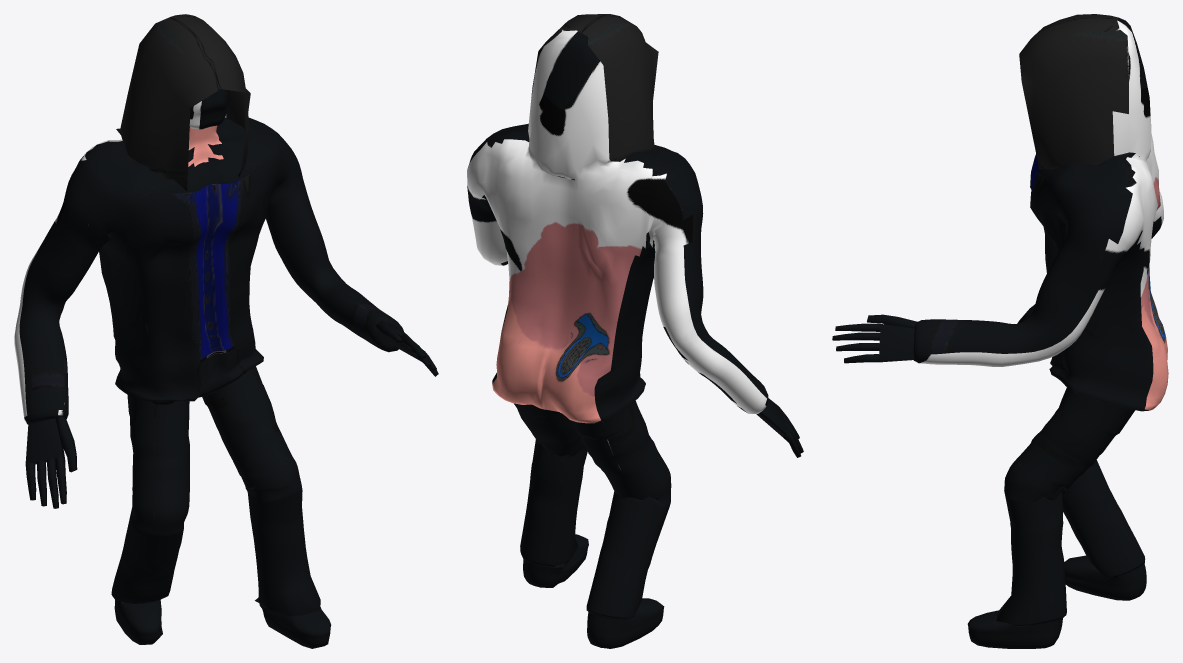
The model's file is keyFrame06.obj.
3 renders of one model, left to right at view 1: azimuth 30°, elevation 25°; view 2: azimuth 150°, elevation 25°; view 3: azimuth 270°, elevation 25°, orthographic.
Visible parts, largest first — view 1: pasted__polySurface71 group4; view 2: pasted__polySurface71 group4; view 3: pasted__polySurface71 group4.
Part boxes in pixels (x1,y1,x2,y2): pasted__polySurface71 group4: (14, 14, 438, 648); pasted__polySurface71 group4: (467, 14, 803, 648); pasted__polySurface71 group4: (832, 14, 1168, 648).
Size of the model in its own units: 6.93 by 12.69 by 6.51.
1 material, 1 textured.
